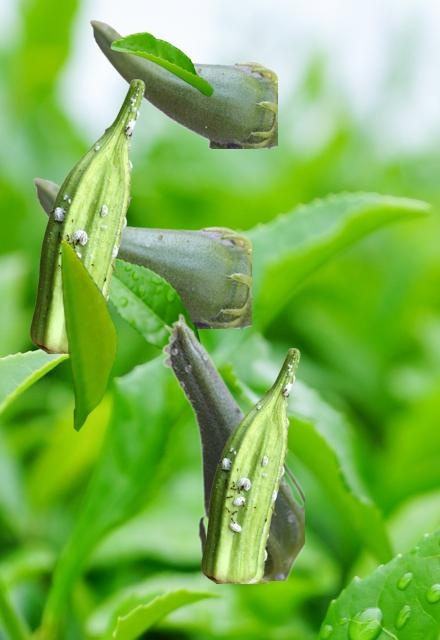okra: (161, 313, 303, 579), (32, 177, 250, 327), (30, 79, 144, 352), (89, 19, 276, 147), (201, 348, 299, 582)
